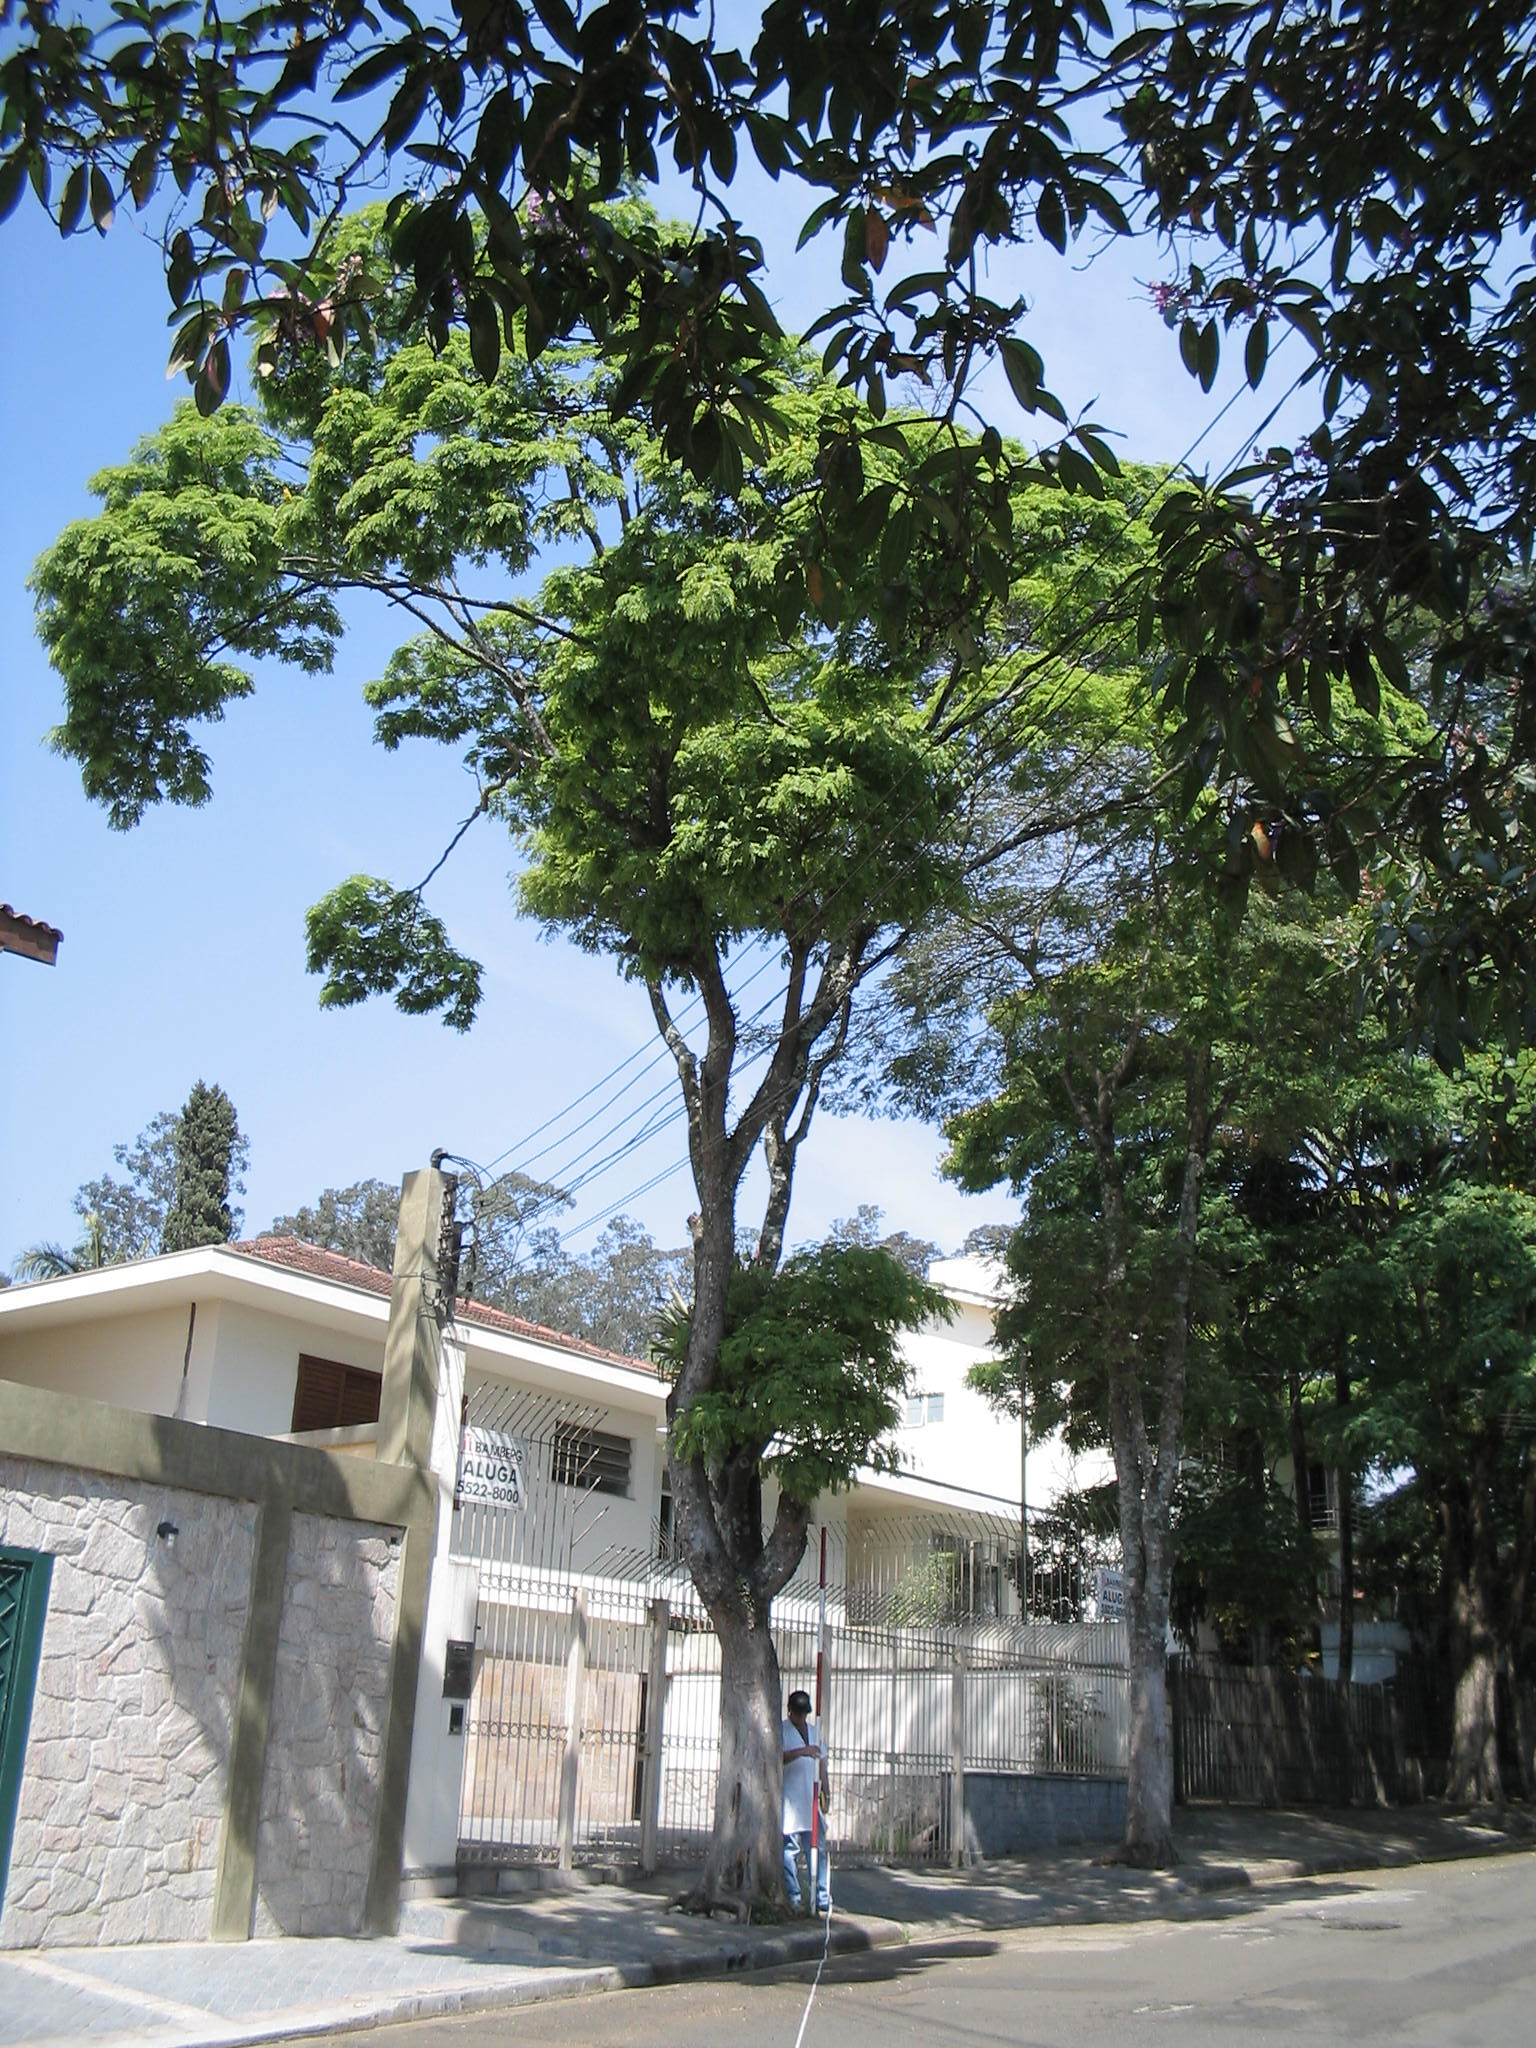crown: (31, 203, 1407, 1074)
stem: (1075, 1532, 1217, 1874), (670, 1590, 808, 1924)
stick: (787, 1529, 865, 1919)
tree: (31, 197, 1415, 1929), (945, 447, 1404, 1879)
